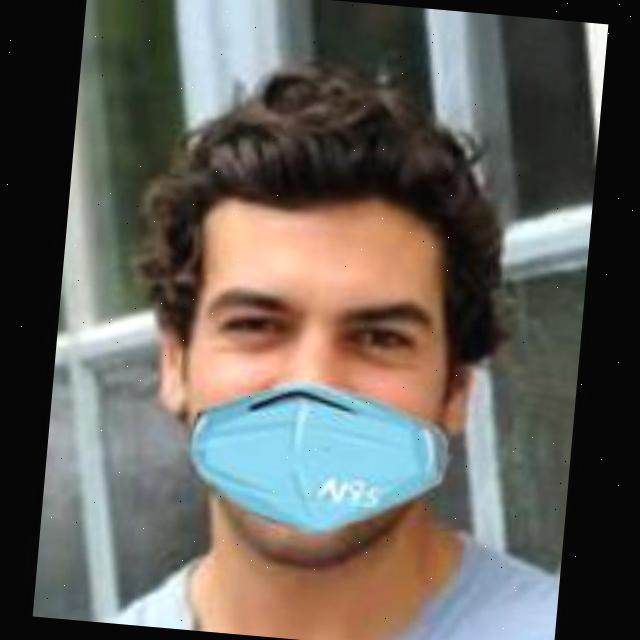suspicion: (132, 120, 508, 560)
